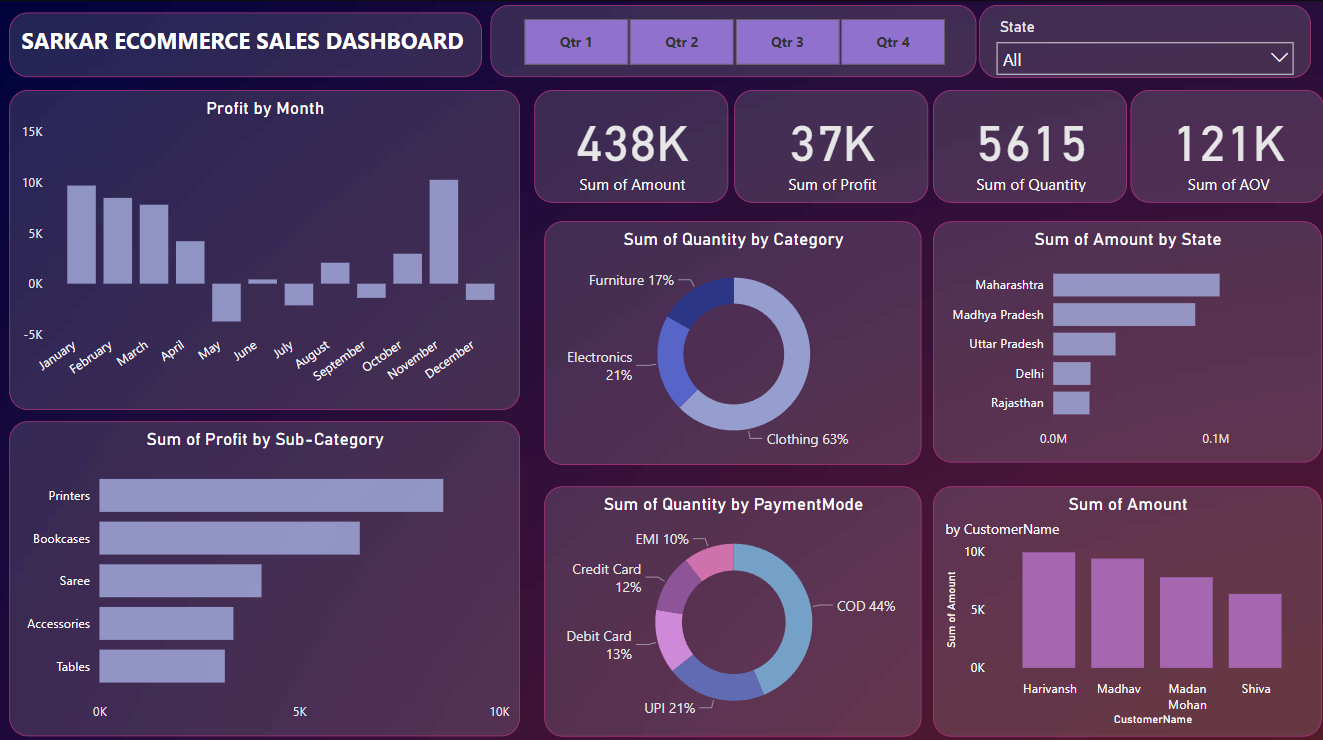

The page's visual inventory and layout, read from the dashboard file:
{"tool":"powerbi","page":{"name":"Page 1","canvas":[1280,720],"ordinal":0},"visuals":[{"type":"textbox","box":[10.9,12.1,455.9,62.7],"z":0},{"type":"columnChart","title":" Profit by Month","fields":{"Category":["Orders.Order Date.Variation.Date Hierarchy.Month"],"Y":["Details.Profit"]},"box":[11.2,86.2,492.5,308.8],"z":1000},{"type":"barChart","fields":{"Category":["Details.Sub-Category"],"Y":["Details.Profit"]},"box":[11.2,406.2,492.5,303.8],"z":2000},{"type":"donutChart","fields":{"Category":["Details.Category"],"Y":["Details.Quantity"]},"box":[527.5,213.8,363.8,235],"z":3000},{"type":"donutChart","fields":{"Y":["Details.Quantity"],"Category":["Details.PaymentMode"]},"box":[527.5,468.8,363.8,241.2],"z":4000},{"type":"card","fields":{"Values":["Details.Amount"]},"box":[517.5,86.2,187.5,108.8],"z":5000},{"type":"card","fields":{"Values":["Details.Quantity"]},"box":[902.5,86.2,187.5,108.8],"z":6000},{"type":"card","fields":{"Values":["Details.Profit"]},"box":[710,86.2,187.5,108.8],"z":7000},{"type":"card","fields":{"Values":["Details.AOV"]},"box":[1092.5,86.2,187.5,108.8],"z":8000},{"type":"barChart","fields":{"Category":["Orders.State"],"Y":["Details.Amount"]},"box":[902.5,213.8,375,232.5],"z":9000},{"type":"lineStackedColumnComboChart","fields":{"Category":["Orders.CustomerName"],"Y":["Details.Amount"]},"box":[902.5,468.8,375,241.2],"z":10000},{"type":"slicer","fields":{"Values":["Orders.Order Date.Variation.Date Hierarchy.Quarter"]},"box":[475.2,4.8,469.1,69.9],"z":11000},{"type":"slicer","fields":{"Values":["Orders.State"]},"box":[946.2,5,320,70],"z":12000}]}

Visuals, with their boxes in screenshot pixels (x1, y1, x2, y2), scaled from the page's 1280x720 canvas onto the 1323x740 screenshot:
textbox: (x1=11, y1=12, x2=482, y2=77)
" Profit by Month" columnChart: (x1=12, y1=89, x2=521, y2=406)
barChart - Details.Sub-Category x Details.Profit: (x1=12, y1=417, x2=521, y2=730)
donutChart - Details.Category x Details.Quantity: (x1=545, y1=220, x2=921, y2=461)
donutChart - Details.Quantity x Details.PaymentMode: (x1=545, y1=482, x2=921, y2=730)
card - Details.Amount: (x1=535, y1=89, x2=729, y2=200)
card - Details.Quantity: (x1=933, y1=89, x2=1127, y2=200)
card - Details.Profit: (x1=734, y1=89, x2=928, y2=200)
card - Details.AOV: (x1=1129, y1=89, x2=1322, y2=200)
barChart - Orders.State x Details.Amount: (x1=933, y1=220, x2=1320, y2=459)
lineStackedColumnComboChart - Orders.CustomerName x Details.Amount: (x1=933, y1=482, x2=1320, y2=730)
slicer - Orders.Order Date.Variation.Date Hierarchy.Quarter: (x1=491, y1=5, x2=976, y2=77)
slicer - Orders.State: (x1=978, y1=5, x2=1309, y2=77)
